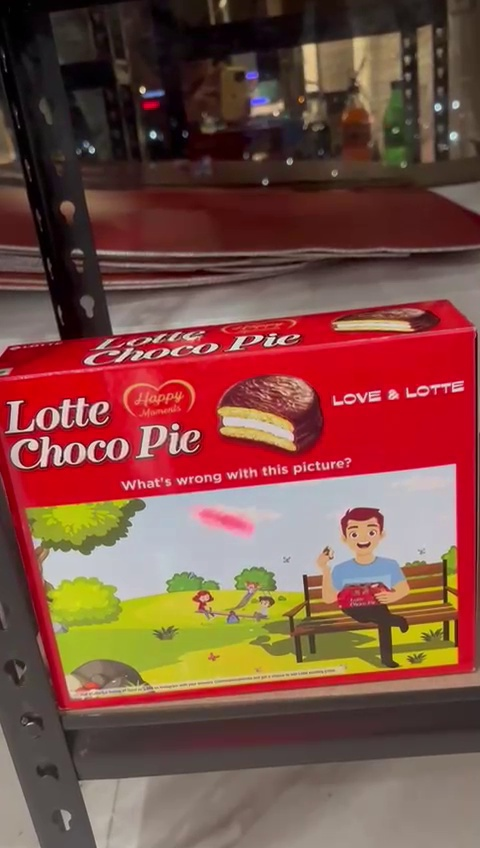Lotte Chocopie: (4, 329, 480, 681)
